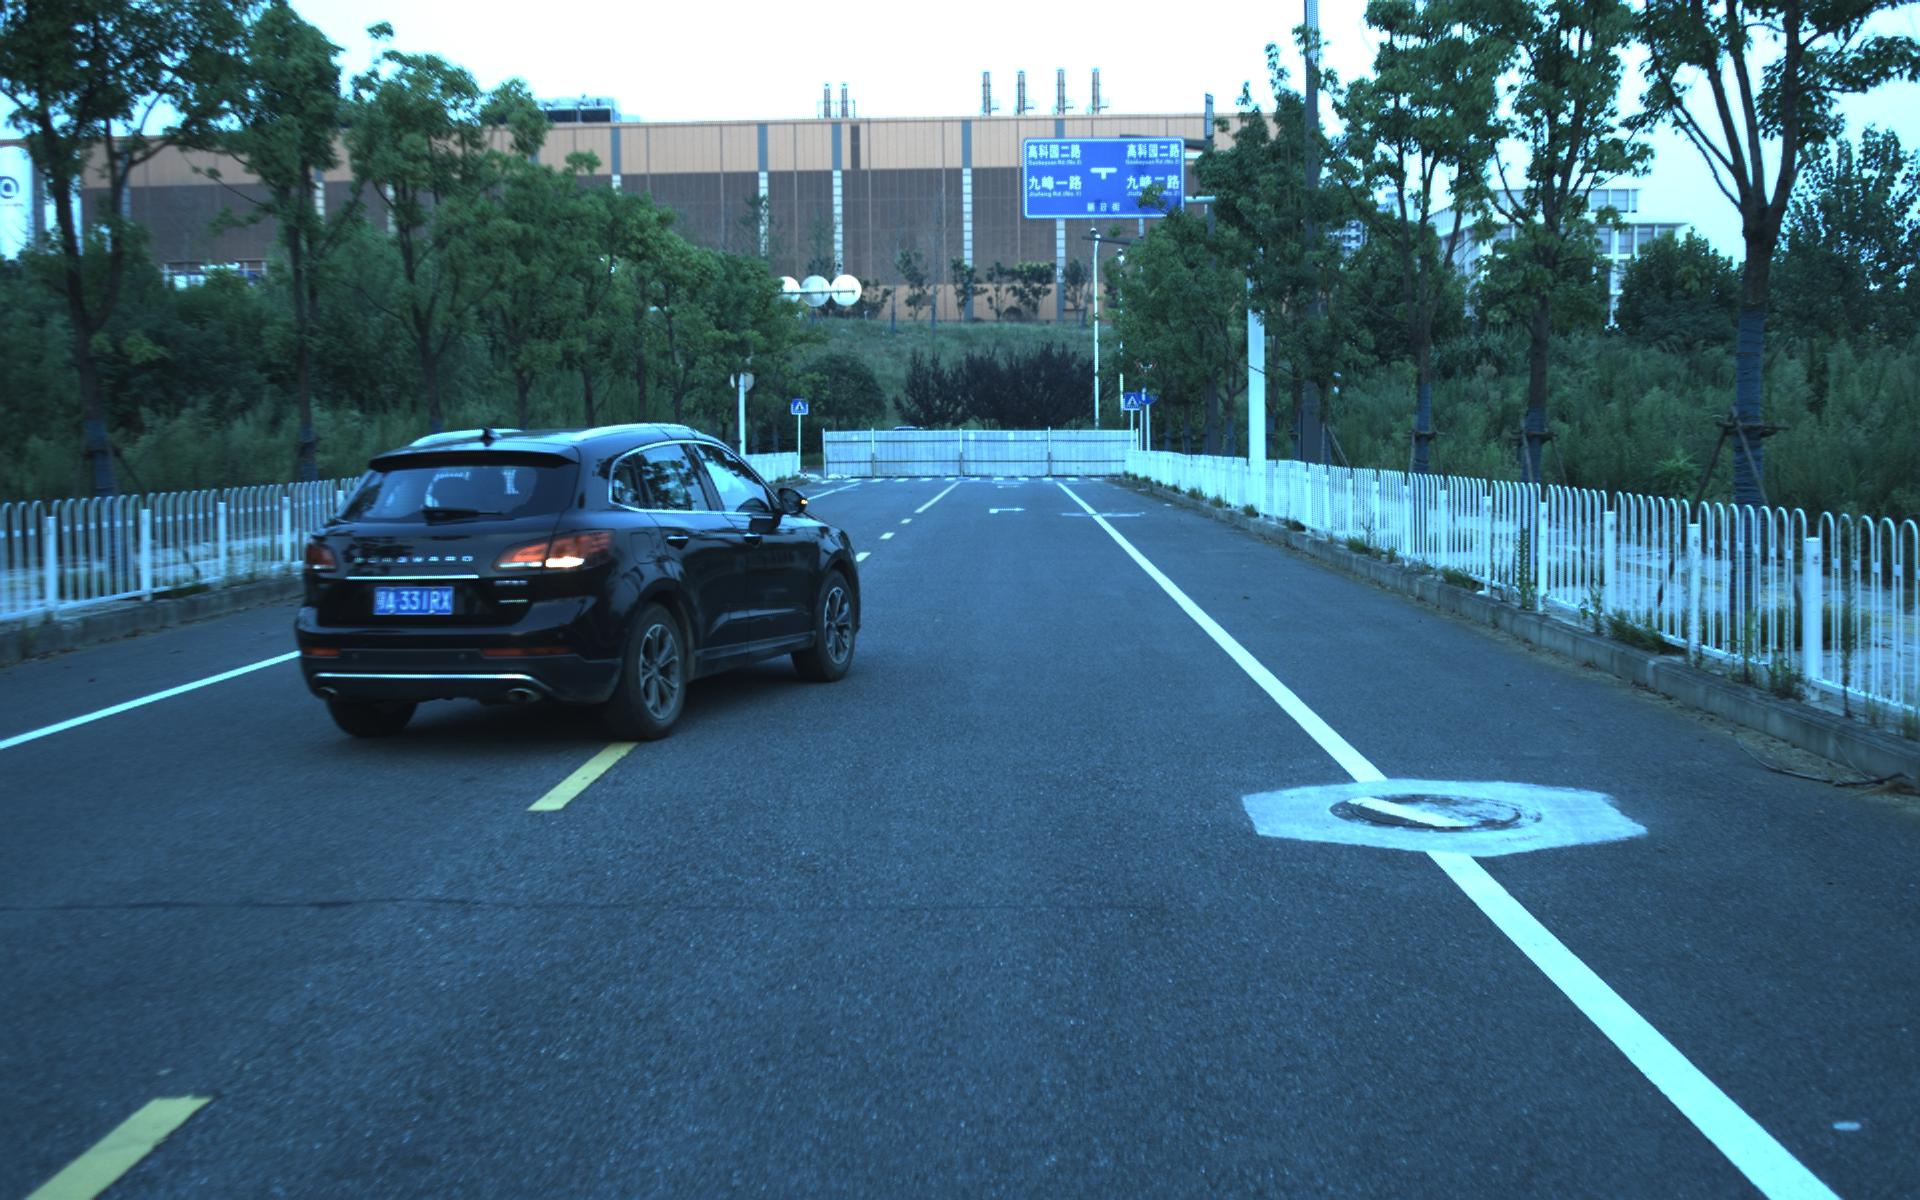Car: (265, 411, 867, 758)
